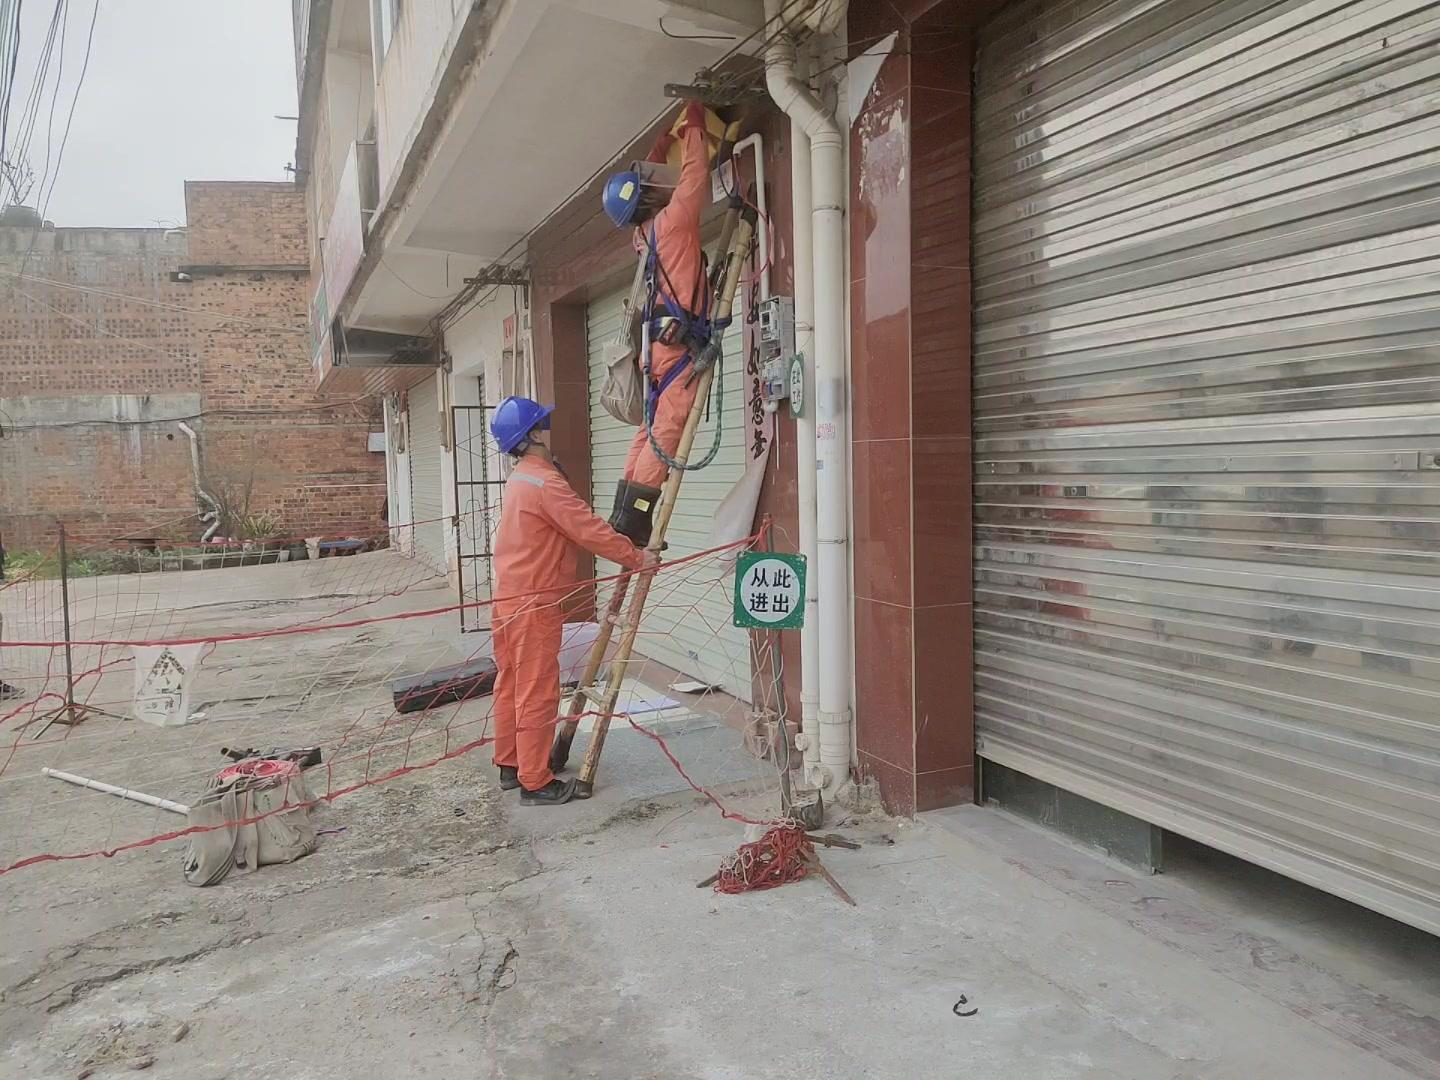halt: (493, 398, 559, 459), (603, 174, 653, 231)
